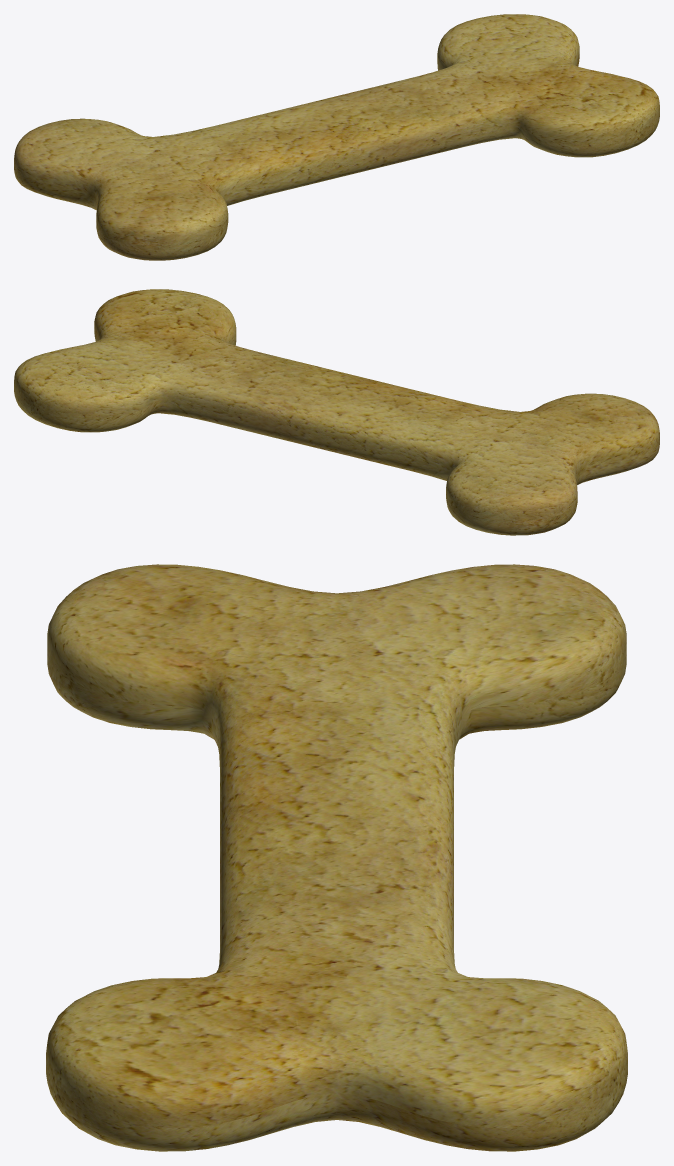
The model's file is dog_biscuit.fbx.
3 renders of one model, top to bottom at view 1: azimuth 30°, elevation 25°; view 2: azimuth 150°, elevation 25°; view 3: azimuth 270°, elevation 25°, orthographic. The views are drawn at different scales.
Parts seen in each view (by area): view 1: pCube1; view 2: pCube1; view 3: pCube1.
Part boxes in pixels (x1,y1,x2,y2): pCube1: [14, 14, 659, 260]; pCube1: [14, 289, 659, 535]; pCube1: [46, 564, 627, 1151].
Size of the model in its own units: 14.3 by 0.991 by 6.54.
Materials: 1 (1 with a texture image).
